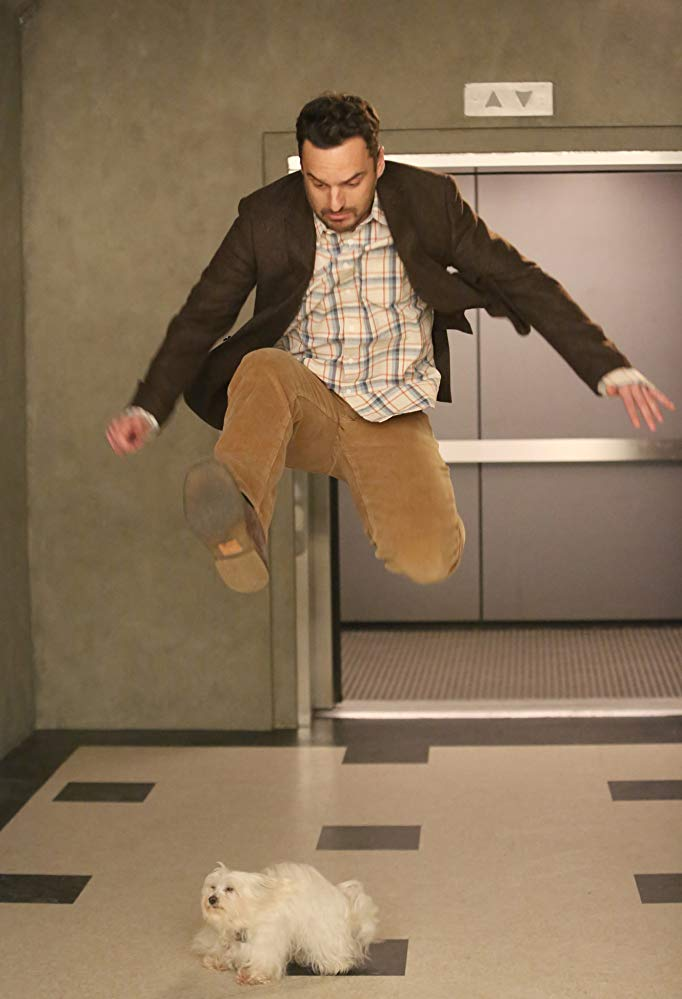person: (77, 72, 680, 599)
